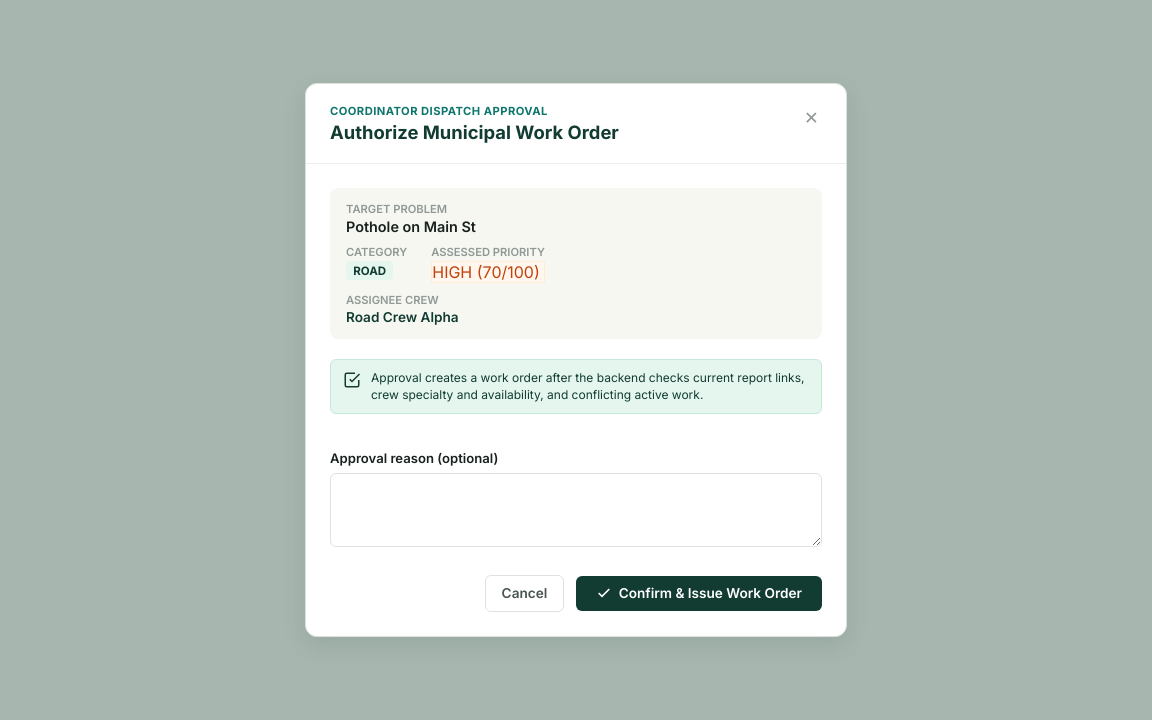
Dispatch Error States Tests (Member 4) › ApproveRecommendationModal renders the server error and keeps the modal open on a failed approval
Click the button "Confirm & Issue Work Order" at [699, 593], box [576,576,822,611]
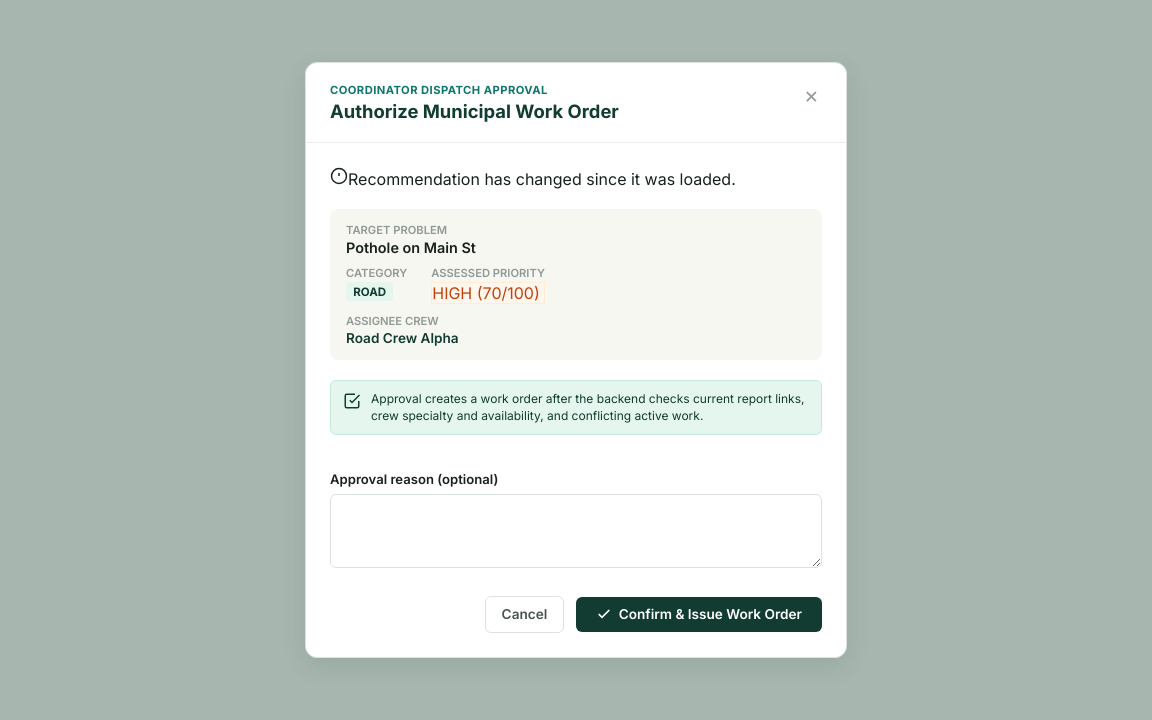
Expected: the text "Recommendation has changed since it was loaded." is shown, [348,169,736,189]
